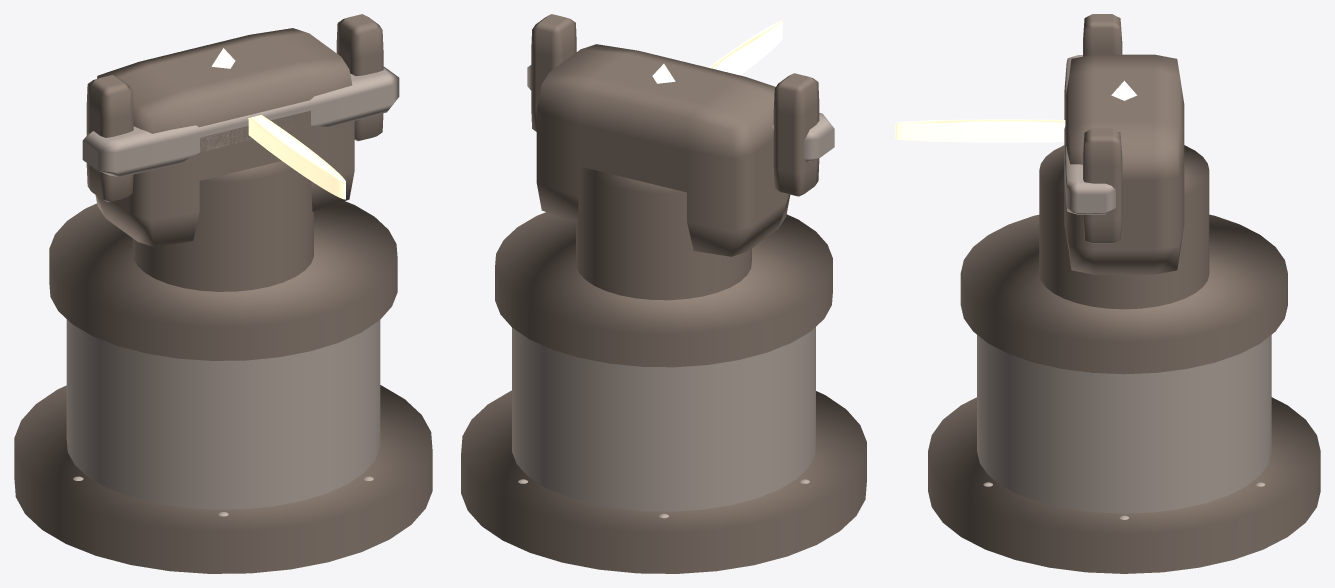
File: ballista_l2.glb
The picture shows the model from 3 angles, left to right: view 1: azimuth 30°, elevation 25°; view 2: azimuth 150°, elevation 25°; view 3: azimuth 270°, elevation 25°; orthographic projection. The views are drawn at different scales.
Parts seen in each view (by area): view 1: base, footing, baseCollar, frame, shaft, crossbow, armL, armR, bolt; view 2: base, frame, footing, baseCollar, shaft, armL, armR, bolt, crossbow; view 3: base, footing, baseCollar, frame, shaft, bolt, armR, crossbow, armL.
Boxes of the visible parts, box(x1,y1,x2,y2) form: base: box(66, 319, 380, 509); footing: box(14, 385, 432, 573); baseCollar: box(49, 201, 397, 360); frame: box(95, 28, 354, 246); shaft: box(133, 161, 313, 291); crossbow: box(82, 67, 399, 177); armL: box(86, 75, 133, 202); armR: box(336, 14, 383, 141); bolt: box(248, 115, 345, 199); base: box(512, 327, 815, 511); frame: box(536, 44, 790, 256); footing: box(461, 390, 866, 573); baseCollar: box(495, 212, 832, 367); shaft: box(576, 166, 751, 300); armL: box(773, 73, 819, 196); armR: box(531, 14, 576, 131); bolt: box(708, 20, 782, 75); crossbow: box(527, 65, 834, 161); base: box(977, 335, 1271, 513); footing: box(928, 397, 1320, 573); baseCollar: box(960, 214, 1287, 374); frame: box(1064, 54, 1184, 274); shaft: box(1039, 145, 1209, 309); bolt: box(895, 119, 1065, 142); armR: box(1083, 128, 1122, 243); crossbow: box(1064, 55, 1115, 214); armL: box(1083, 14, 1122, 56).
Bounding box in the file's own units: 1.8 × 2.1 × 1.95.
